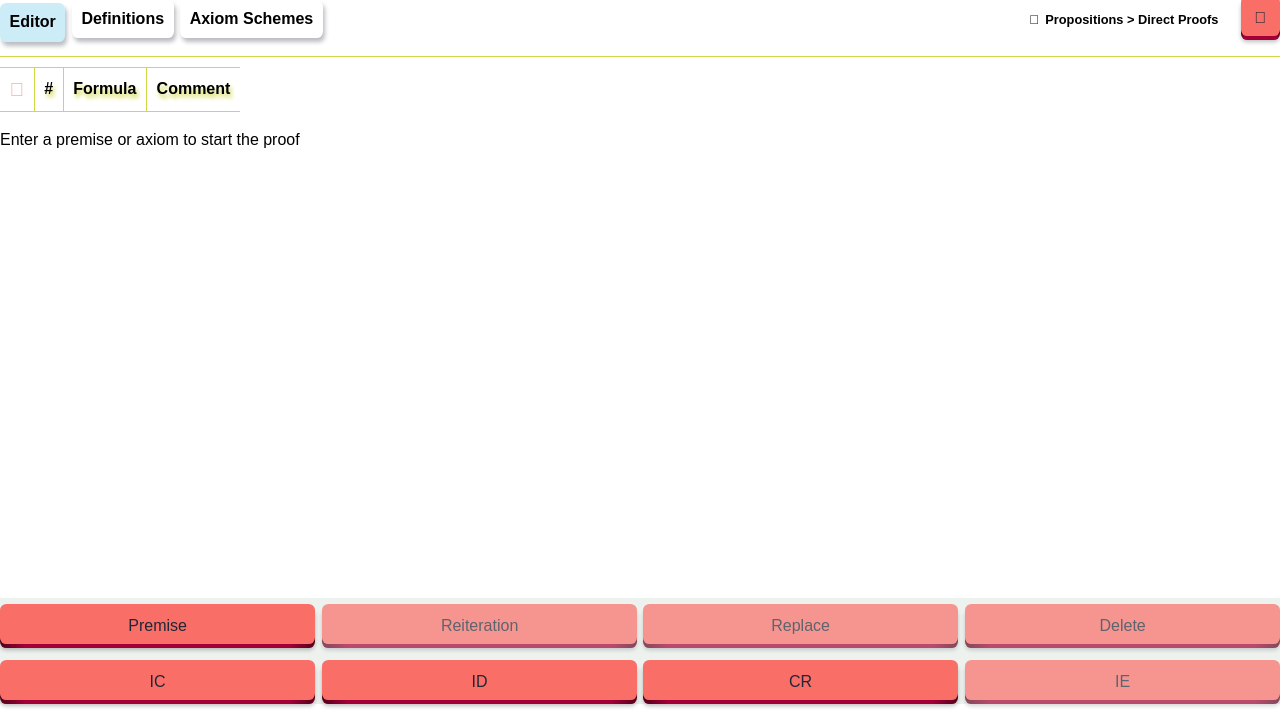
it: Direct Proofs Editor tests: › user can add a ID to the proof table through the form
Expected: the number of rows is 1, x1=0 y1=67 x2=240 y2=111
Expected: the text "Enter a premise or axiom to start the proof" is shown, x1=0 y1=128 x2=300 y2=152
Open the form
Click the button titled "Implication Distribution": [479, 684] box x1=322 y1=664 x2=637 y2=704
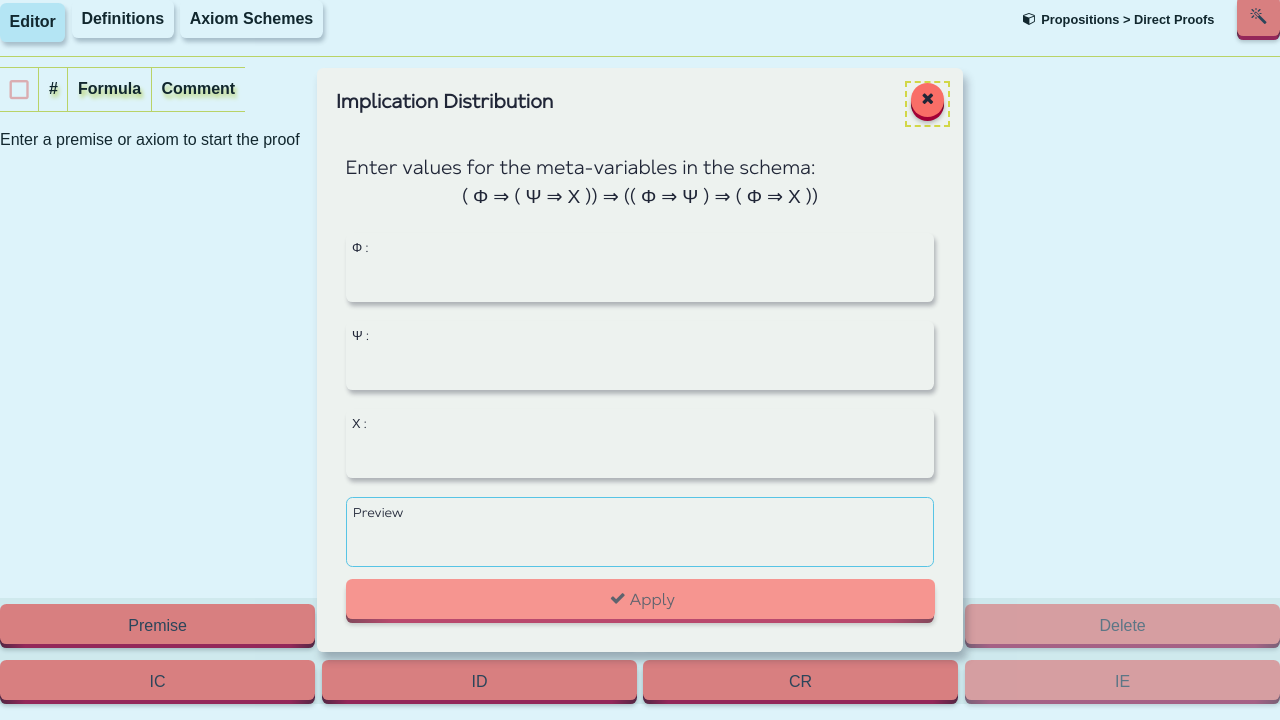
Expected: the button titled "Apply" is disabled, x1=346 y1=583 x2=934 y2=623
Enter a value
In the 1st field: [640, 283] box x1=346 y1=265 x2=934 y2=302, type "P"
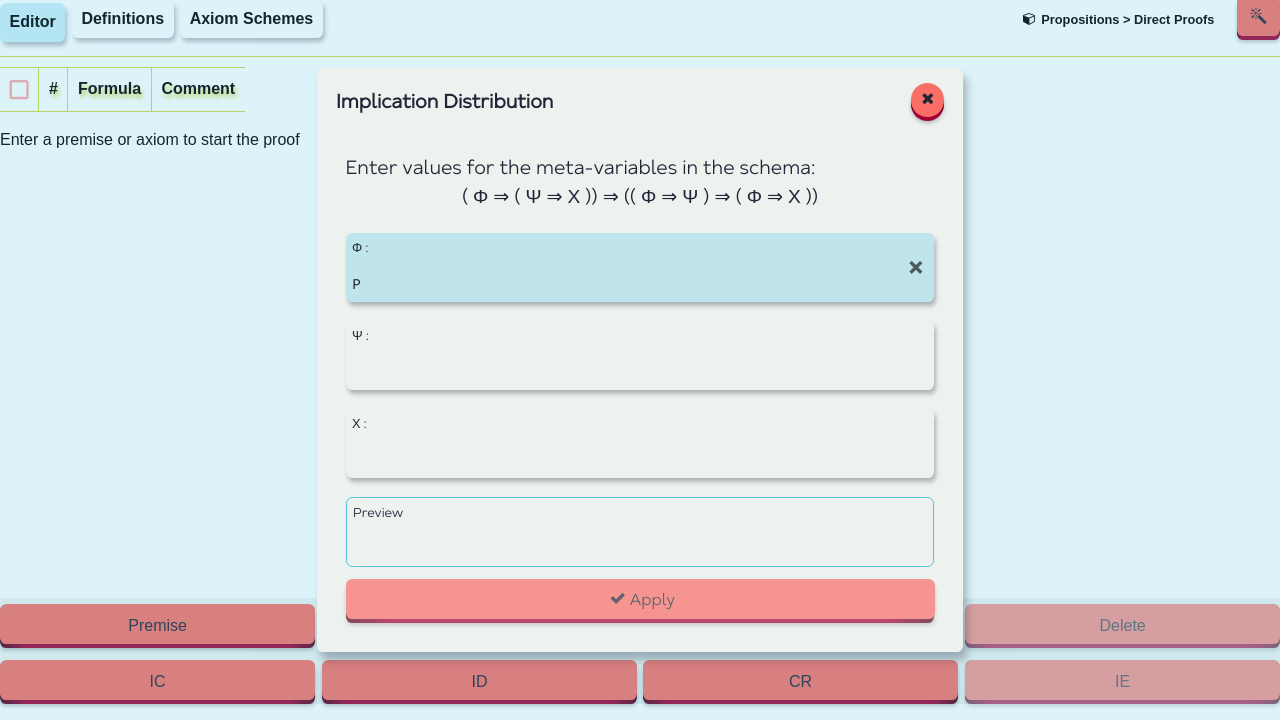
In the 2nd field: [640, 371] box x1=346 y1=353 x2=934 y2=390, type "Q"
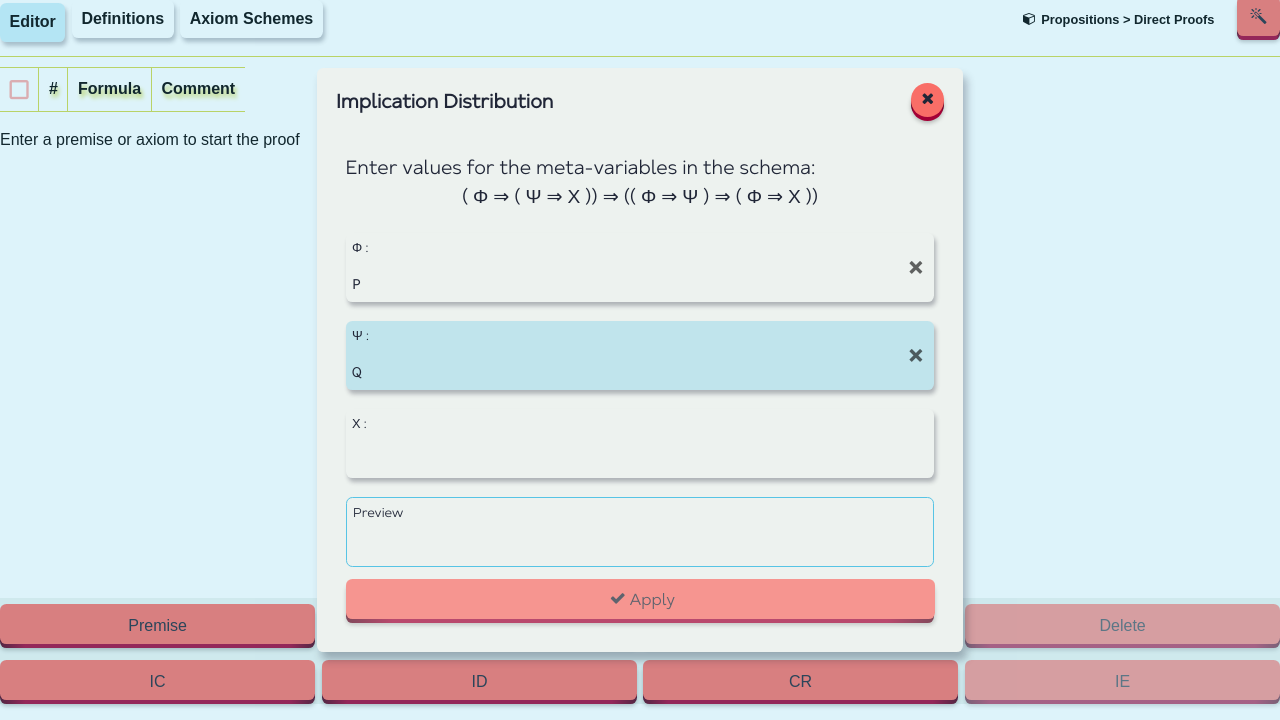
In the 3rd field: [640, 459] box x1=346 y1=441 x2=934 y2=478, type "R"
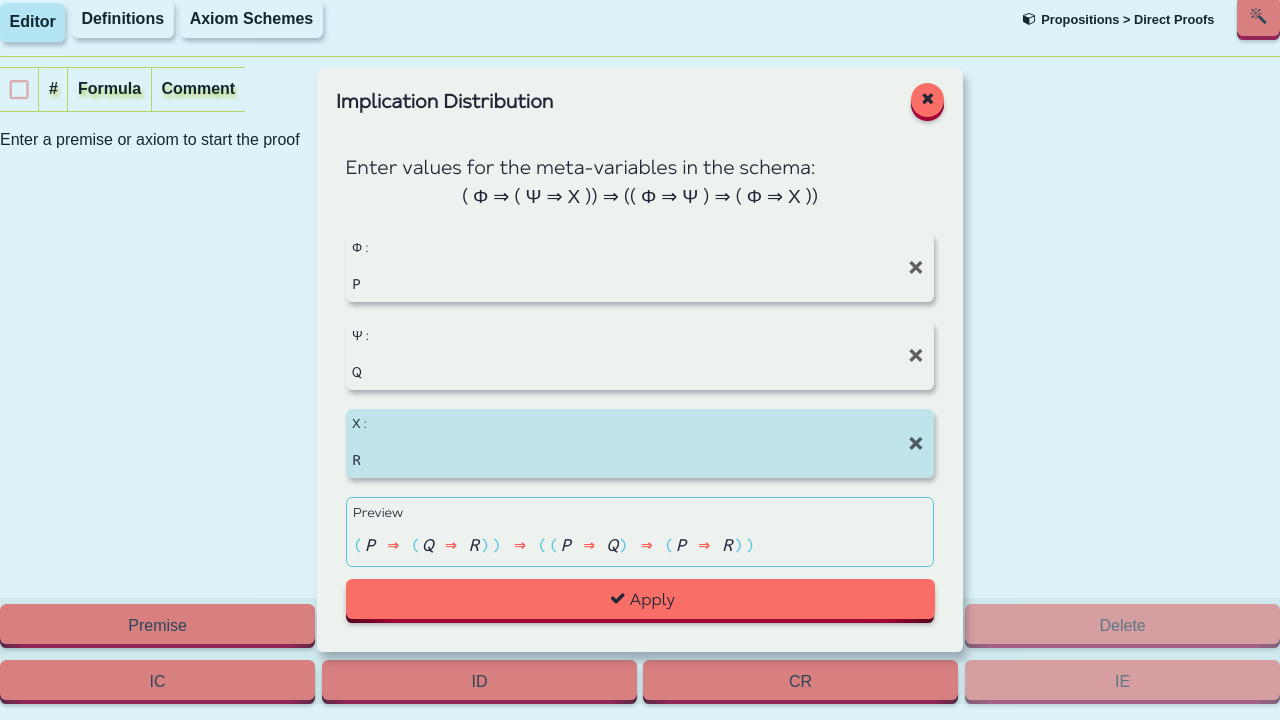
Expected: the button titled "Apply" is enabled
Click apply & close the popup
Click the button titled "Apply": [640, 603] box x1=346 y1=583 x2=934 y2=623
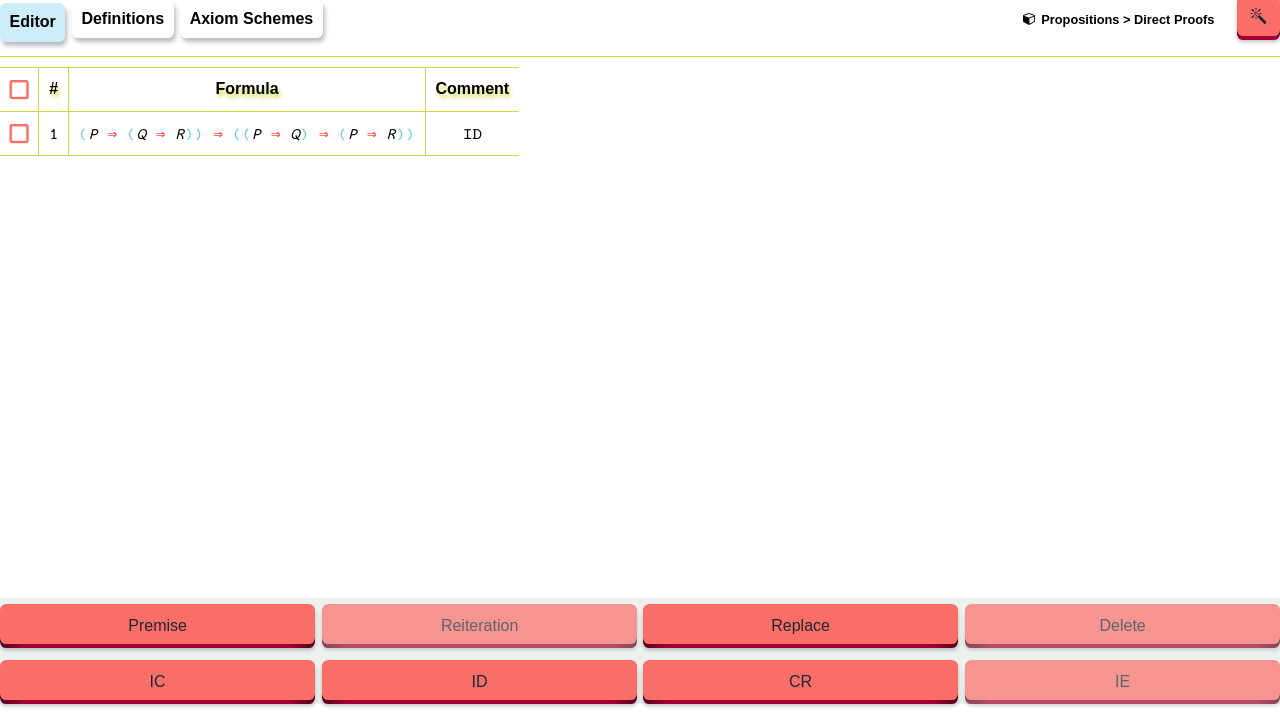
Expected: the text "Enter a premise or axiom to start the proof" is gone
Expected: the number of cells is 4, x1=0 y1=111 x2=39 y2=156; x1=39 y1=111 x2=69 y2=156; x1=69 y1=111 x2=425 y2=156; x1=425 y1=111 x2=519 y2=156
Expected: the number of rows is 2, x1=0 y1=67 x2=519 y2=111; x1=0 y1=111 x2=519 y2=156
